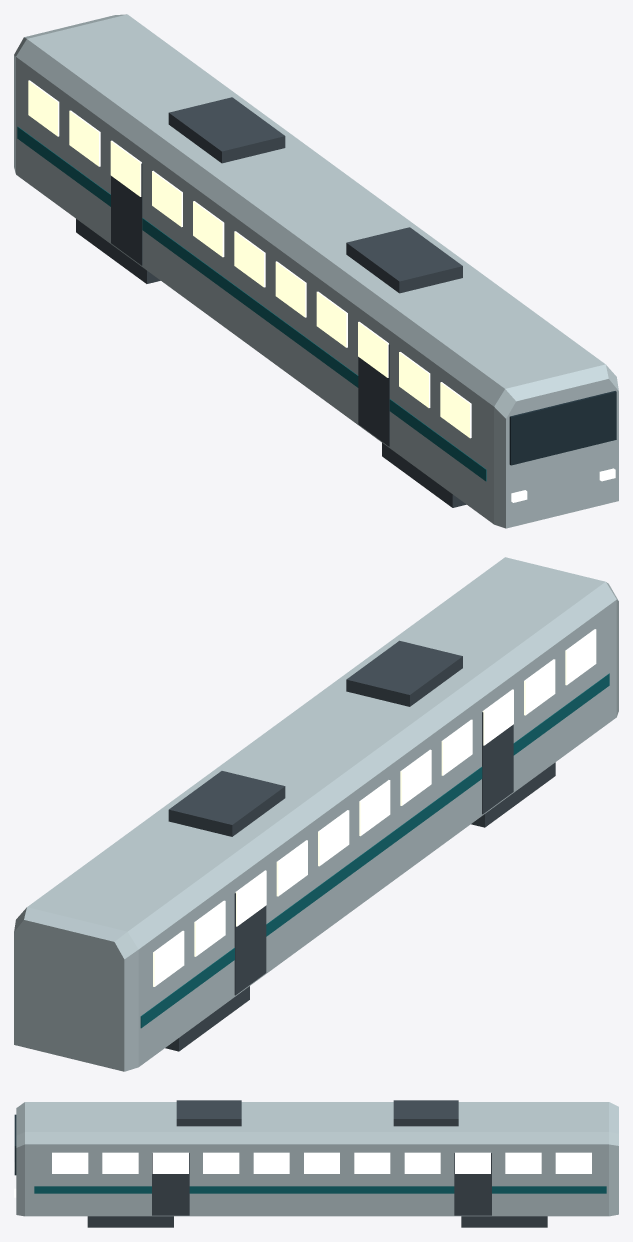
File: jr-cab.glb
3 views of the same model, one above another, from view 1: azimuth 30°, elevation 25°; view 2: azimuth 150°, elevation 25°; view 3: azimuth 270°, elevation 25° (orthographic). The views are drawn at different scales.
Bounding box in the file's own units: 2.88 × 3.67 × 19.57.
